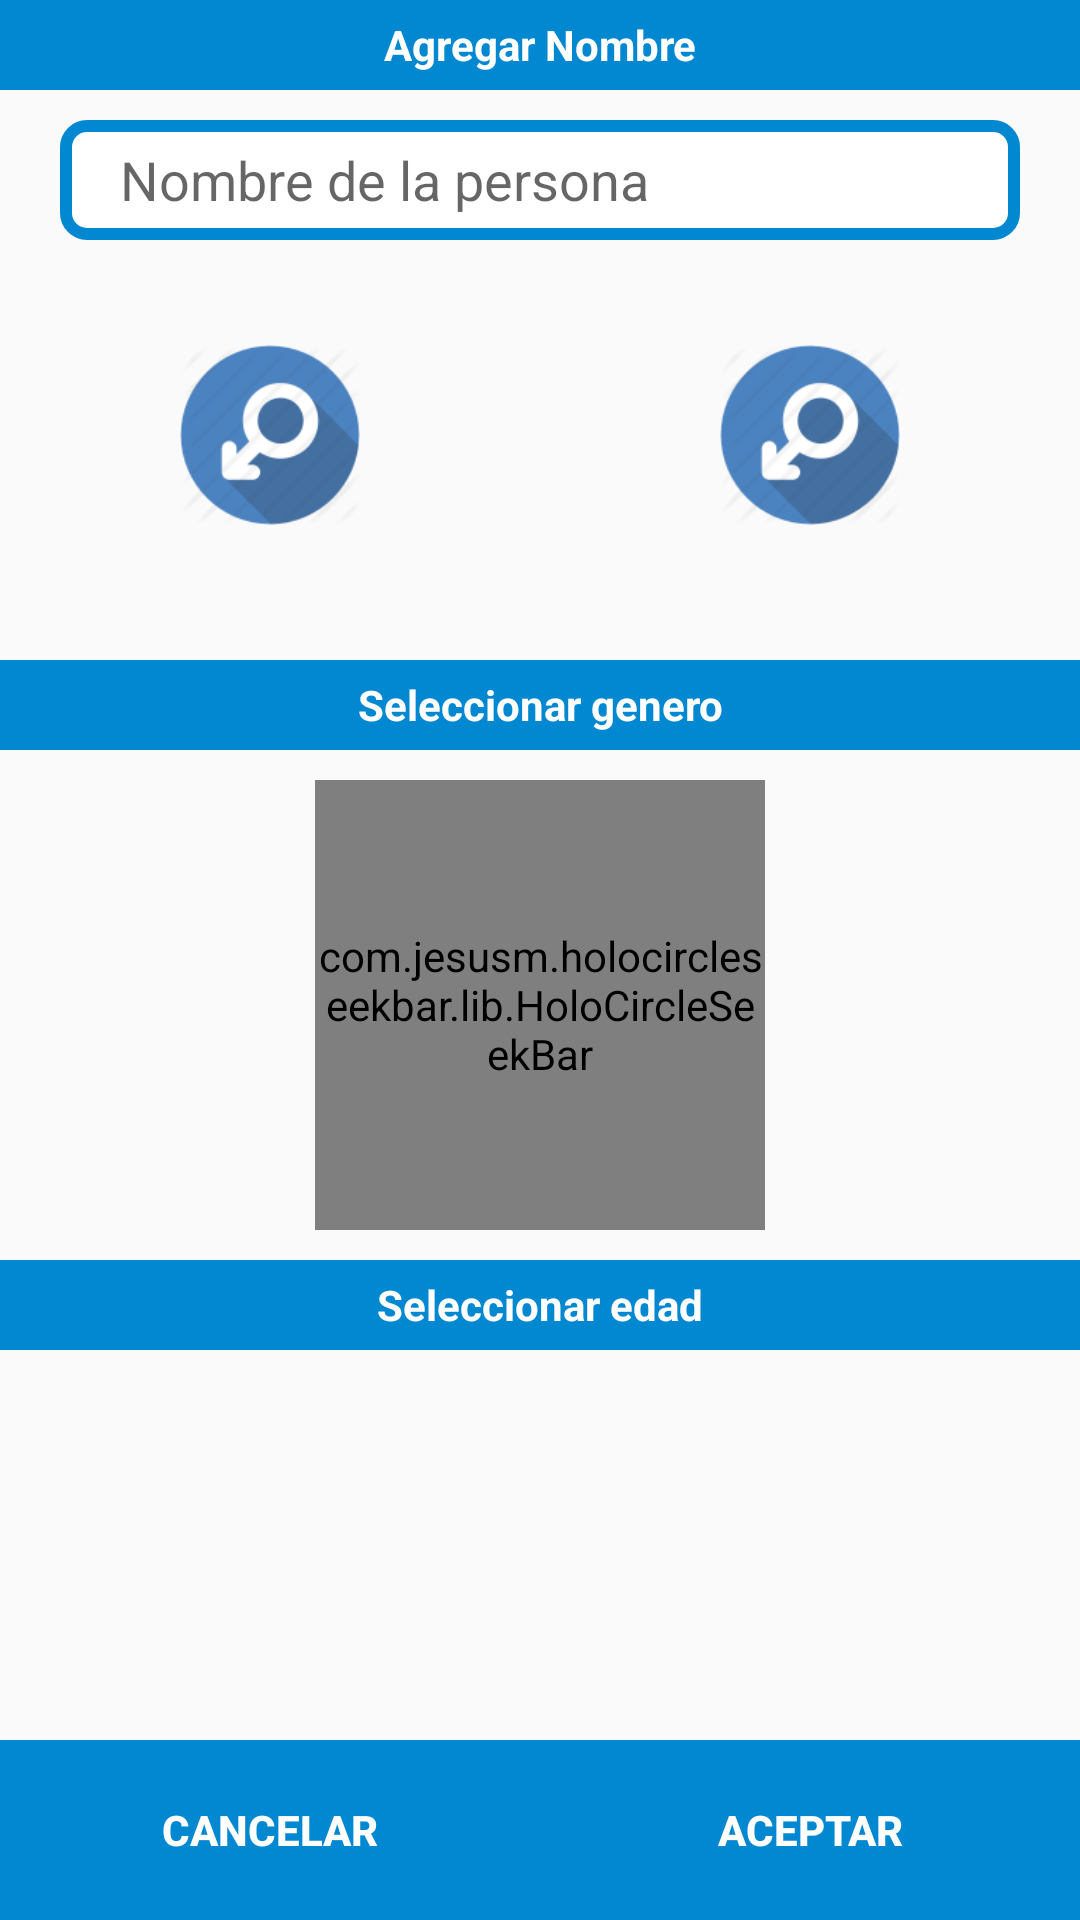

Point at icon controls on the screen. Image size 1080px x 1920px, points as [x,y].
male: [270,435], [810,435]
